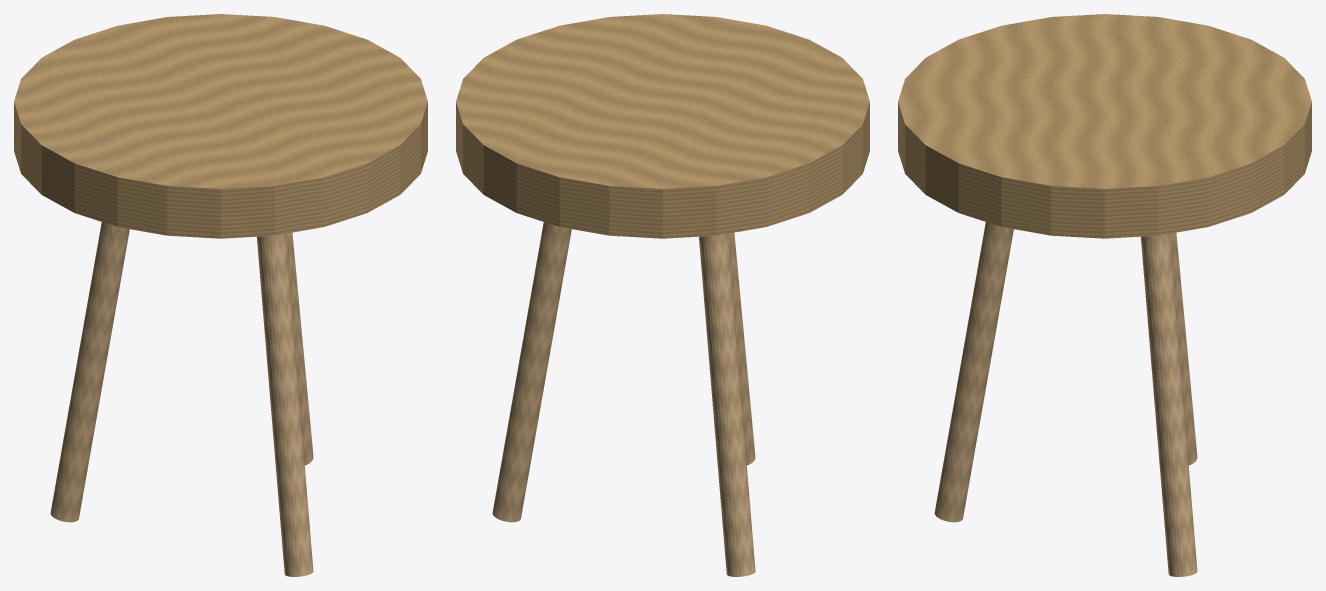
3 views of the same model, side by side, from view 1: azimuth 30°, elevation 25°; view 2: azimuth 150°, elevation 25°; view 3: azimuth 270°, elevation 25° (orthographic).
Visible parts, largest first — view 1: 1 rattan_tabletop, 2 front_leg, 3 back_left_leg, 4 back_right_leg; view 2: 1 rattan_tabletop, 3 back_left_leg, 4 back_right_leg, 2 front_leg; view 3: 1 rattan_tabletop, 4 back_right_leg, 2 front_leg, 3 back_left_leg.
Part boxes in pixels (box(x1,y1,x2,y2)): 1 rattan_tabletop: box(14, 14, 427, 238); 2 front_leg: box(256, 234, 313, 576); 3 back_left_leg: box(50, 222, 129, 522); 4 back_right_leg: box(285, 232, 313, 465); 1 rattan_tabletop: box(456, 14, 869, 238); 3 back_left_leg: box(699, 234, 755, 576); 4 back_right_leg: box(492, 222, 571, 522); 2 front_leg: box(727, 232, 755, 465); 1 rattan_tabletop: box(898, 14, 1311, 238); 4 back_right_leg: box(1140, 234, 1197, 576); 2 front_leg: box(934, 222, 1013, 522); 3 back_left_leg: box(1169, 232, 1197, 465).
Bounding box in the file's own units: 0.9 × 1 × 0.9.
Materials: 2 (2 with a texture image).
